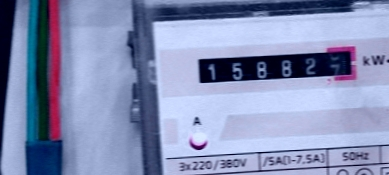1: (204, 60, 217, 80)
2: (303, 55, 316, 74)
5: (229, 59, 242, 80)
7: (328, 61, 340, 76)
8: (254, 58, 267, 79), (279, 57, 292, 78)
screen: (189, 39, 365, 91)
